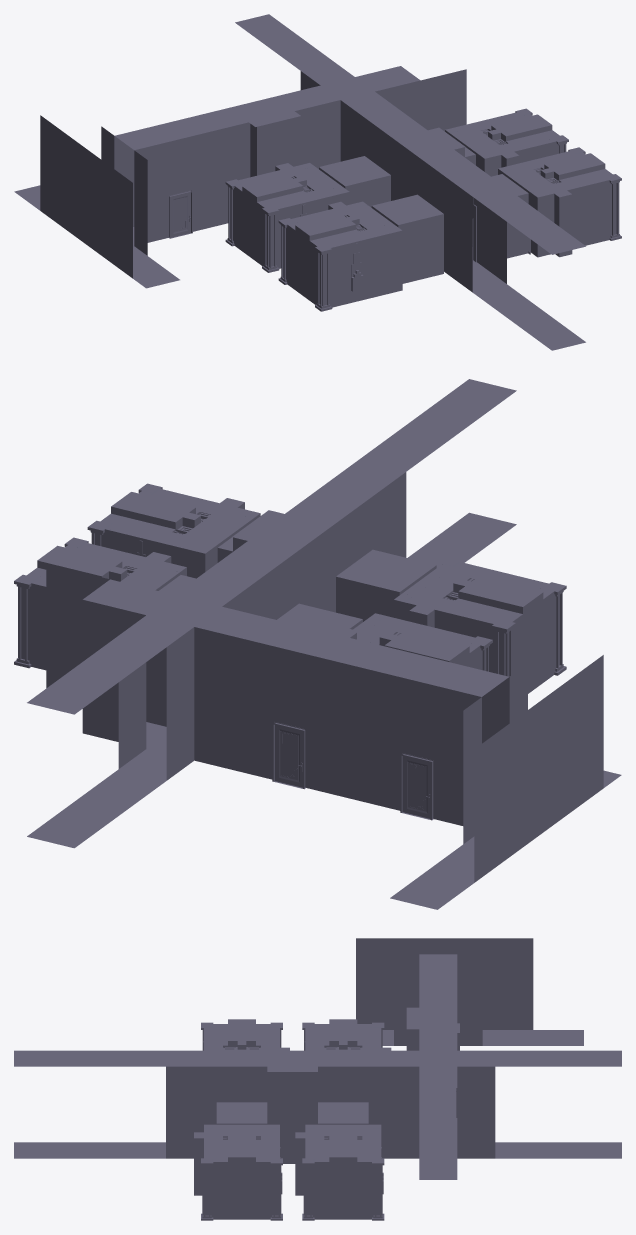
Rendered from modularkittest.fbx.
3 renders of one model, top to bottom at view 1: azimuth 30°, elevation 25°; view 2: azimuth 150°, elevation 25°; view 3: azimuth 270°, elevation 25°, orthographic. The views are drawn at different scales.
Parts seen in each view (by area): view 1: test scene to unity; view 2: test scene to unity; view 3: test scene to unity.
Part boxes in pixels (x1,y1,x2,y2): test scene to unity: (14, 14, 621, 350); test scene to unity: (14, 379, 621, 909); test scene to unity: (14, 938, 621, 1220).
Size of the model in its own units: 3563 by 800 by 4800.
